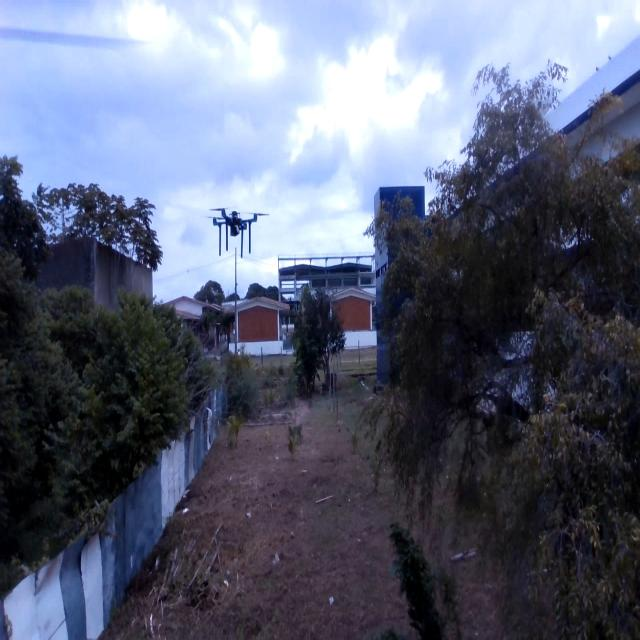-uav-: (200, 202, 274, 264)
